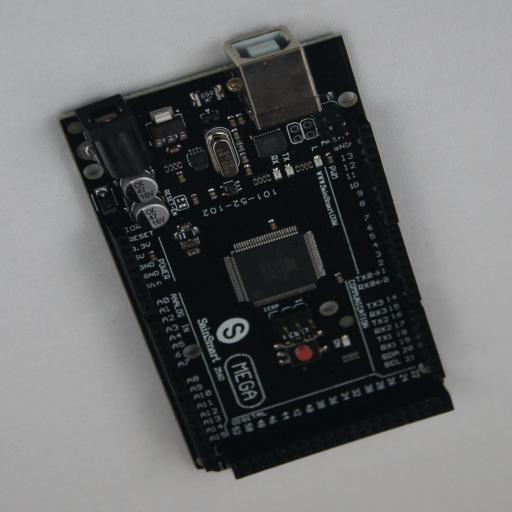Arduino Mega 2560 -Black-: (59, 29, 454, 479)
